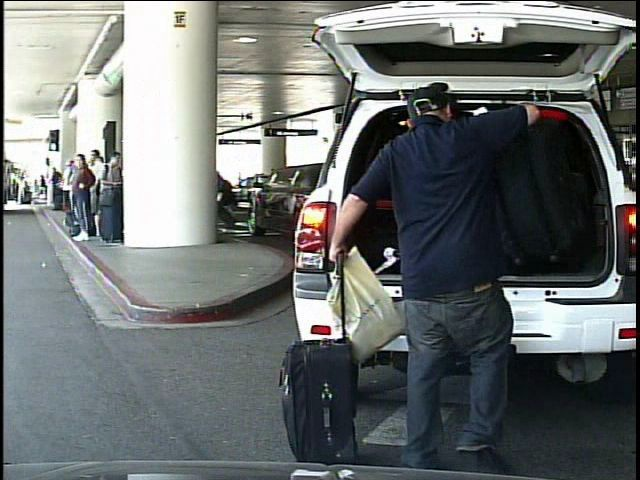person: (333, 92, 548, 473), (217, 164, 239, 231), (36, 173, 48, 203), (18, 175, 28, 206)
